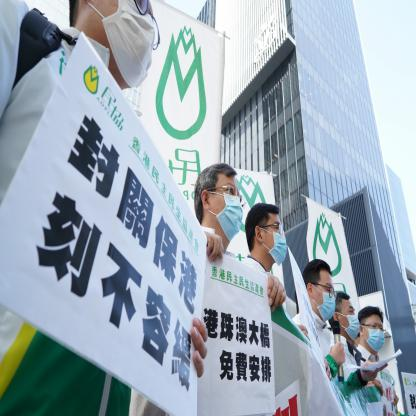Wearing_Mask: (101, 1, 155, 90), (212, 178, 243, 240), (264, 219, 287, 266), (314, 279, 337, 322), (364, 317, 385, 352), (341, 303, 360, 338)
